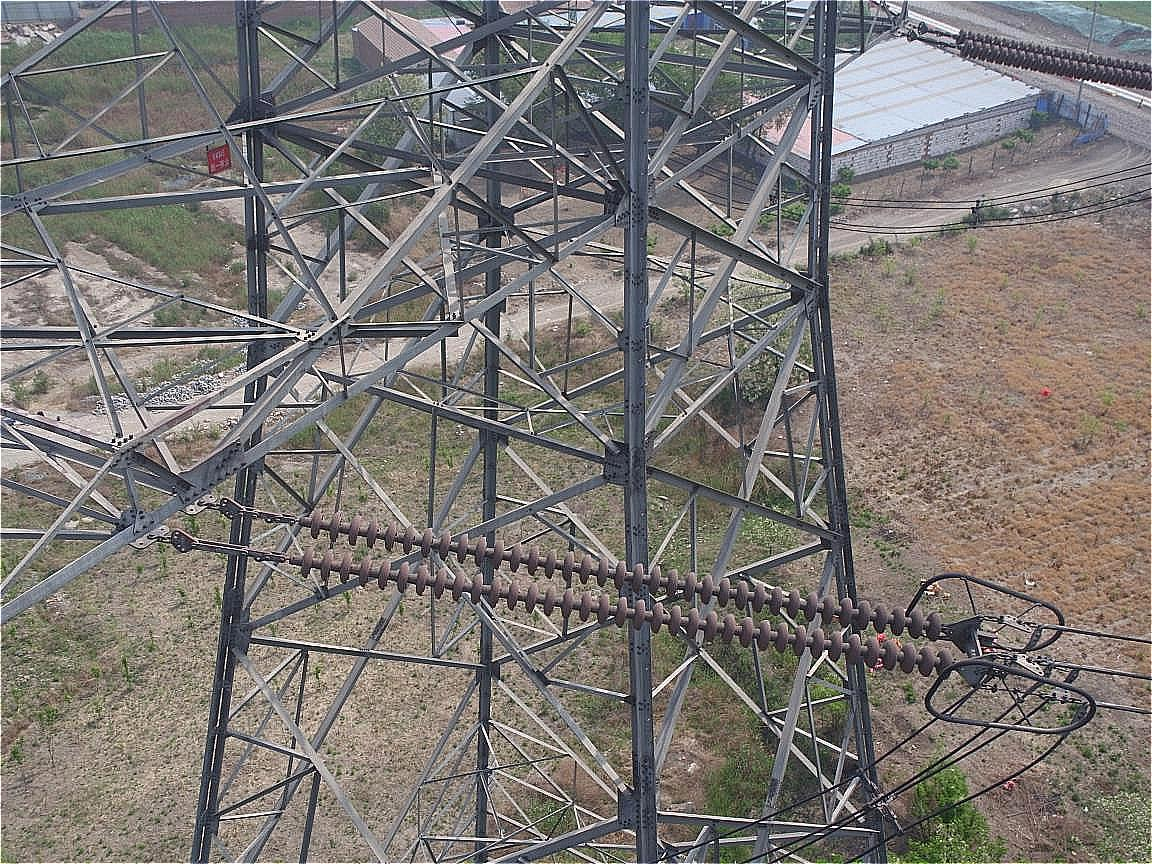insultor1: (236, 507, 961, 679)
